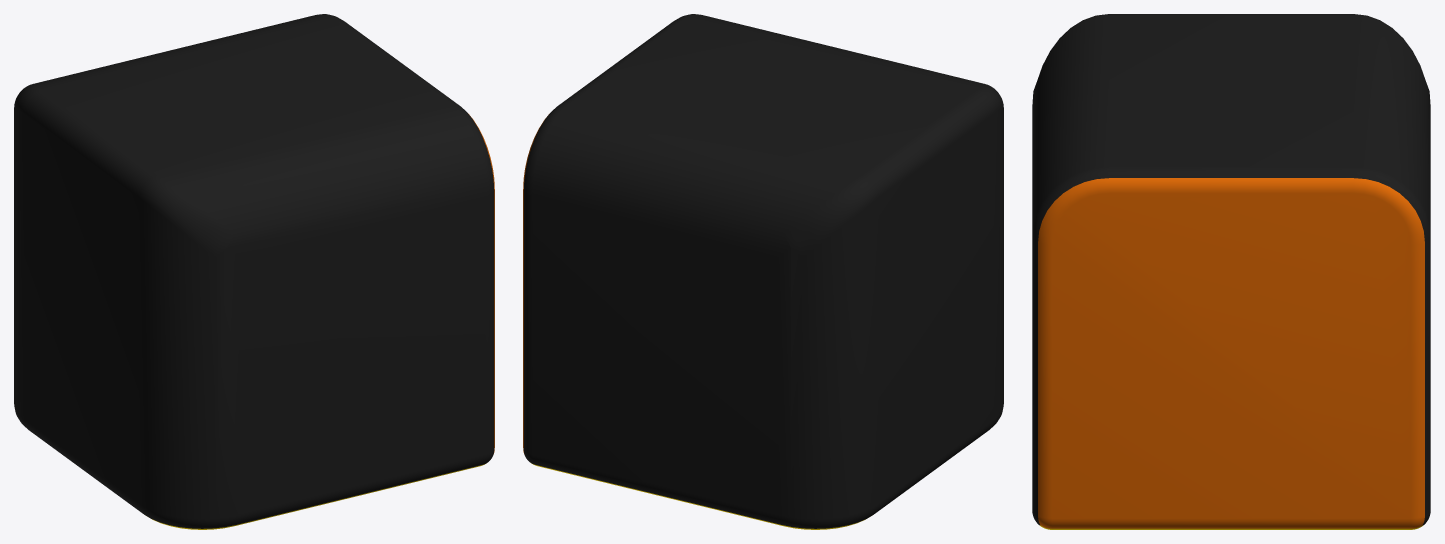
The model's file is yo_edge.glb.
The picture shows the model from 3 angles, left to right: view 1: azimuth 30°, elevation 25°; view 2: azimuth 150°, elevation 25°; view 3: azimuth 270°, elevation 25°; orthographic projection. The views are drawn at different scales.
Visible parts, largest first — view 1: Cube.023; view 2: Cube.023; view 3: Cube.023.
Part boxes in pixels (<box>): Cube.023: <box>14,14,494,529</box>; Cube.023: <box>523,14,1003,529</box>; Cube.023: <box>1032,14,1430,529</box>.
Bounding box in the file's own units: 2 × 2 × 2.
